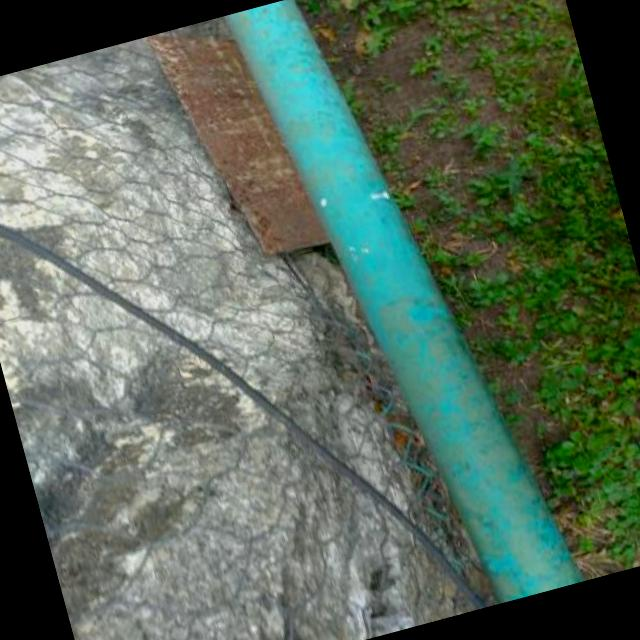gas: (228, 0, 578, 602)
